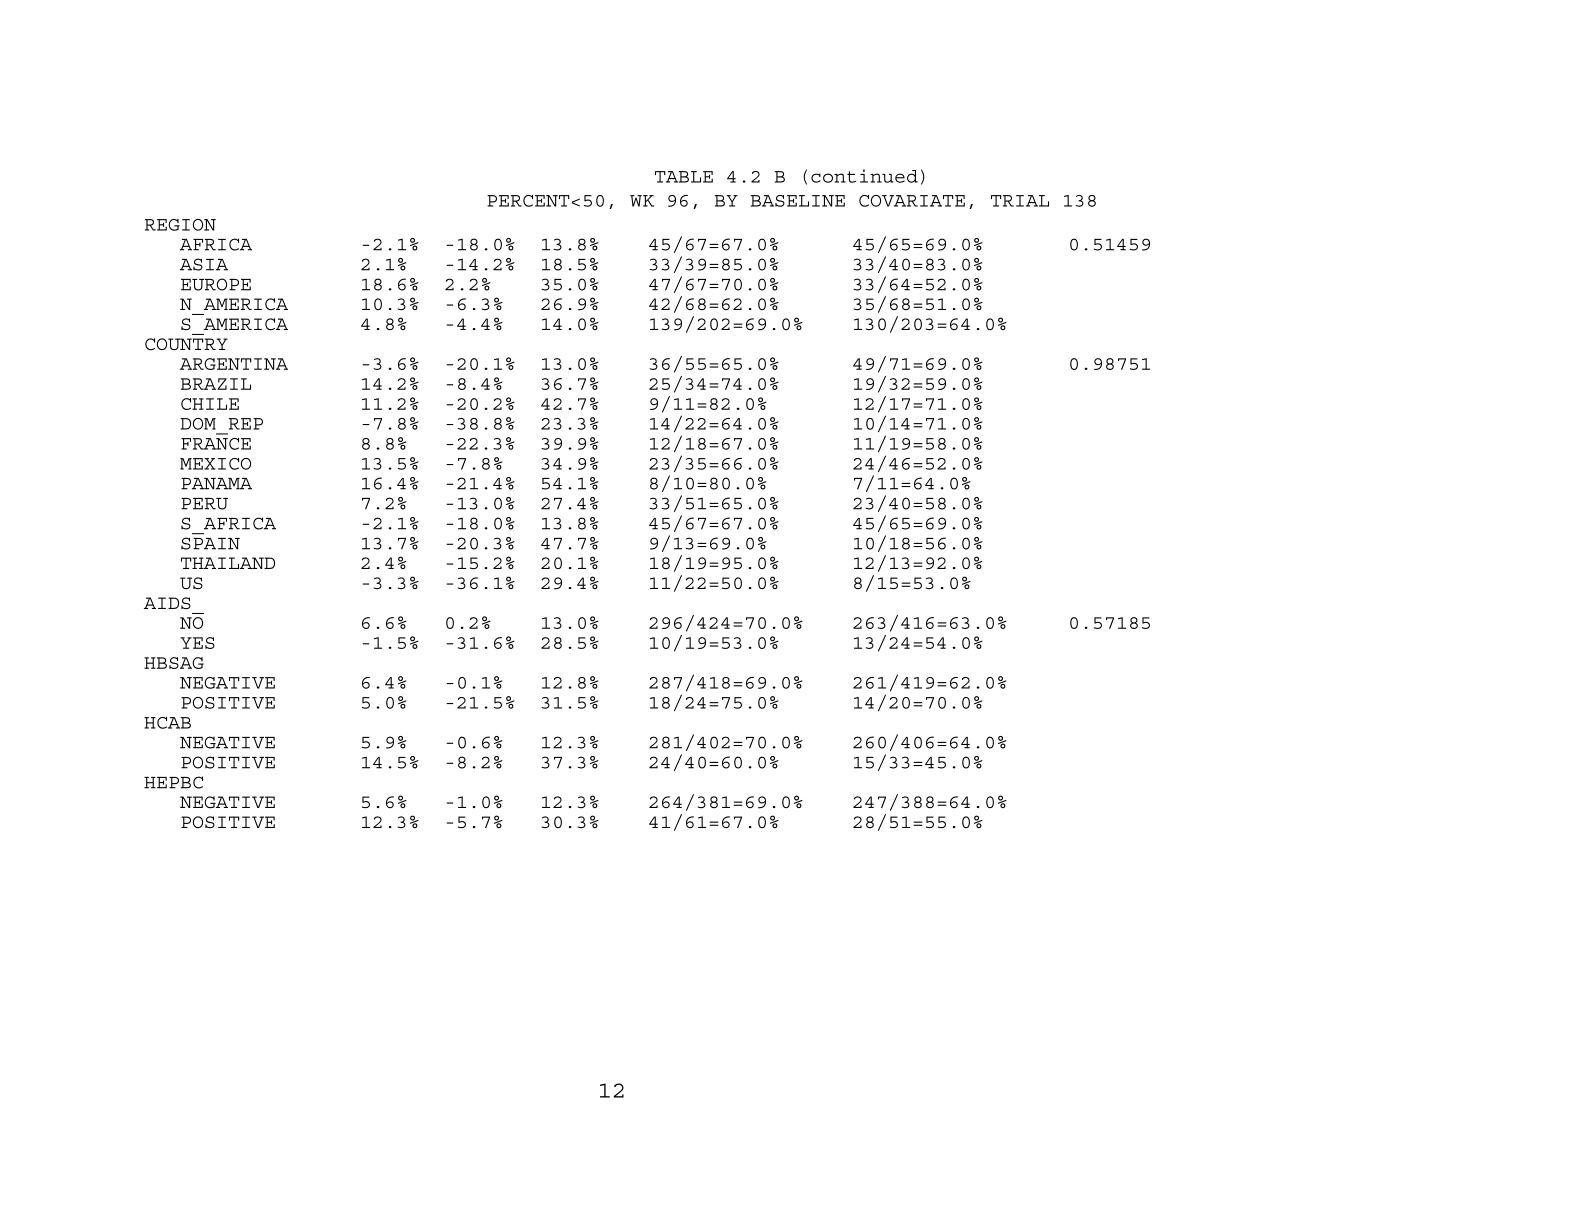nolines: (140, 213, 1152, 829)
